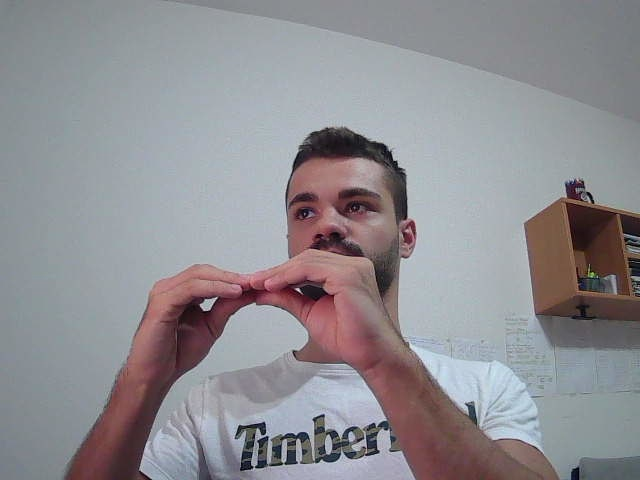b: (72, 246, 472, 408)
